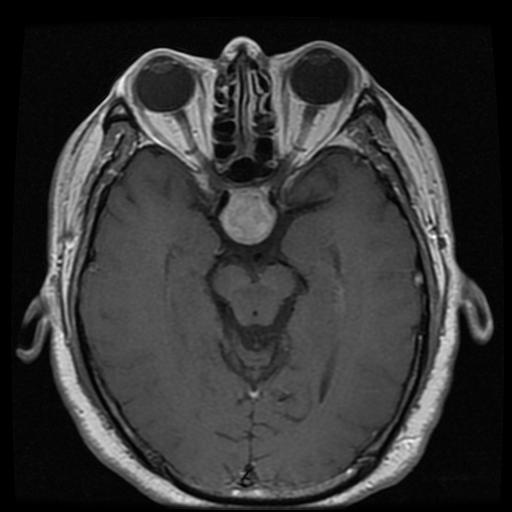Pituirity_tumour: (222, 184, 275, 242)
